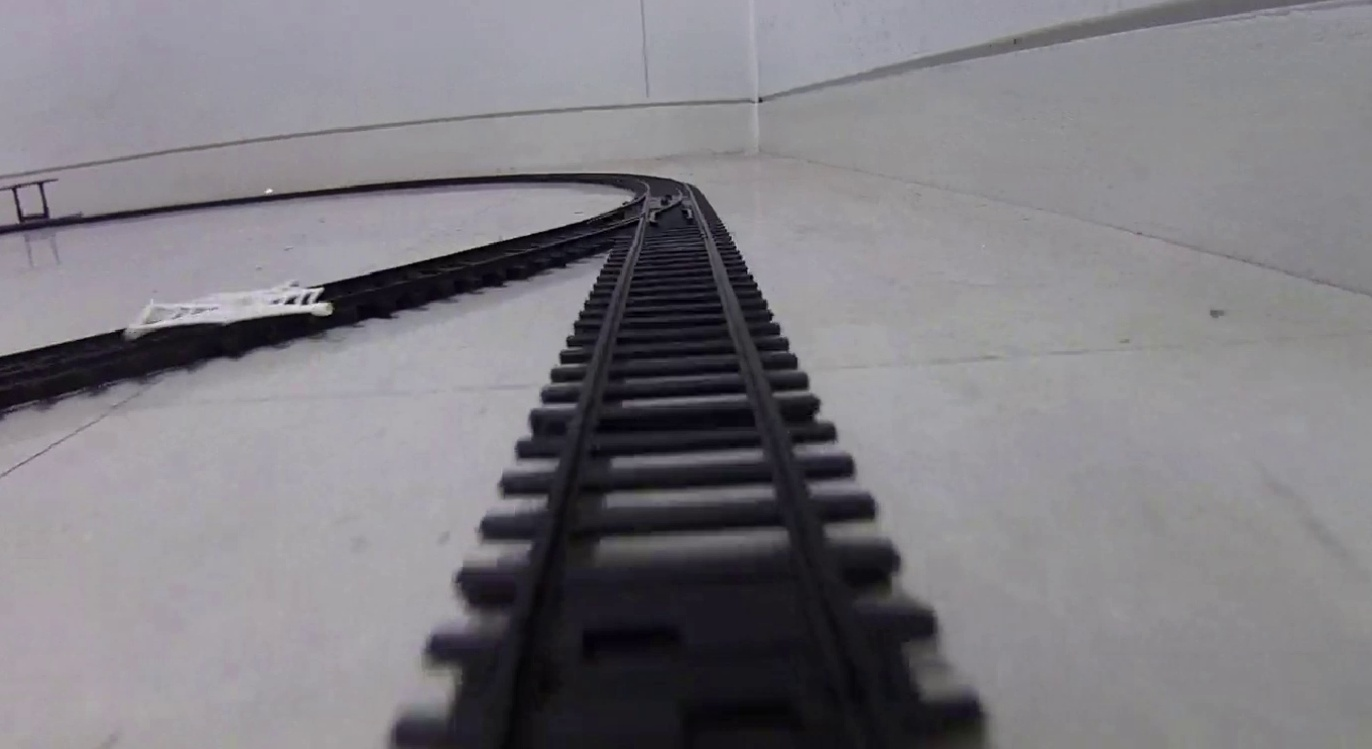web: (132, 282, 330, 323)
